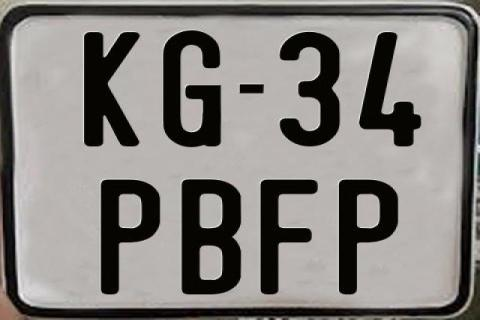0: (357, 30, 420, 144), (280, 31, 341, 148)
B: (182, 177, 244, 295)
F: (259, 179, 323, 299)
G: (163, 30, 222, 150)
K: (82, 32, 140, 148)
P: (98, 178, 162, 298), (338, 179, 403, 297)
